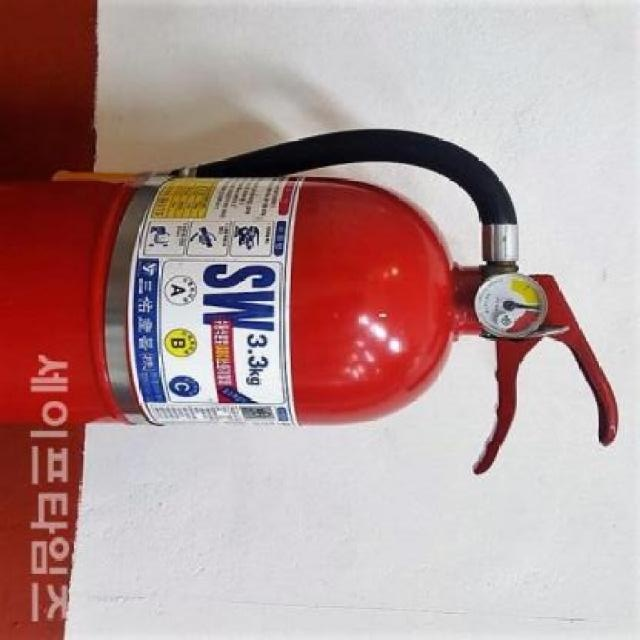fire extinguisher: (0, 127, 620, 475)
